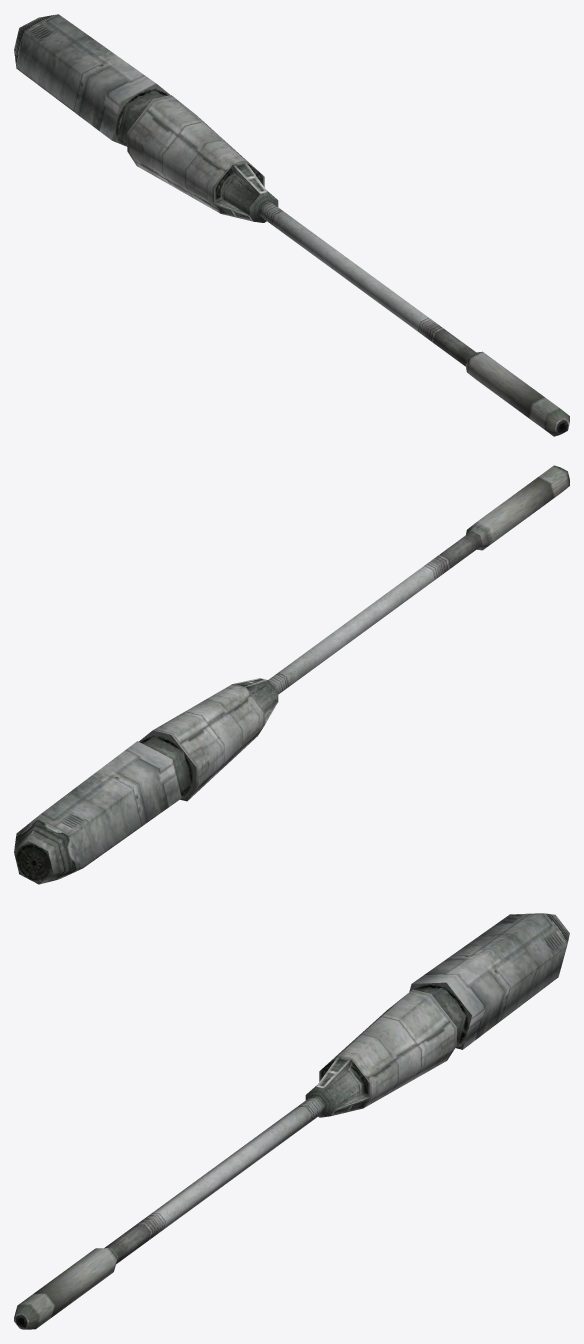
The model's file is xwing_weapon2_neg_s05_l1.fbx.
The picture shows the model from 3 angles, top to bottom: view 1: azimuth 30°, elevation 25°; view 2: azimuth 150°, elevation 25°; view 3: azimuth 330°, elevation 25°; orthographic projection.
Parts seen in each view (by area): view 1: mesh_node; view 2: mesh_node; view 3: mesh_node.
Boxes of the visible parts, x1,y1,x2,y2 form: mesh_node: [14, 14, 569, 436]; mesh_node: [14, 465, 569, 884]; mesh_node: [14, 913, 569, 1329].
Size of the model in its own units: 0.316 by 0.2737 by 4.14.
1 material, 1 textured.
